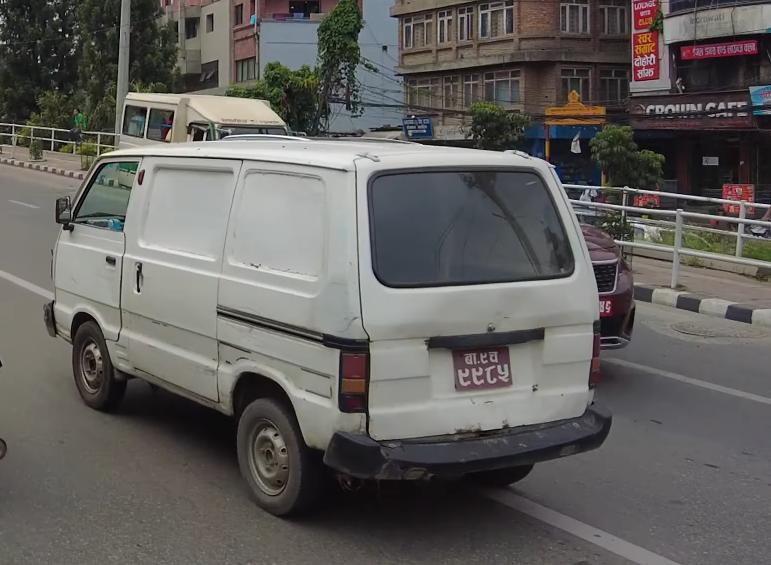tempo: (112, 88, 292, 154)
van: (39, 127, 622, 526)
